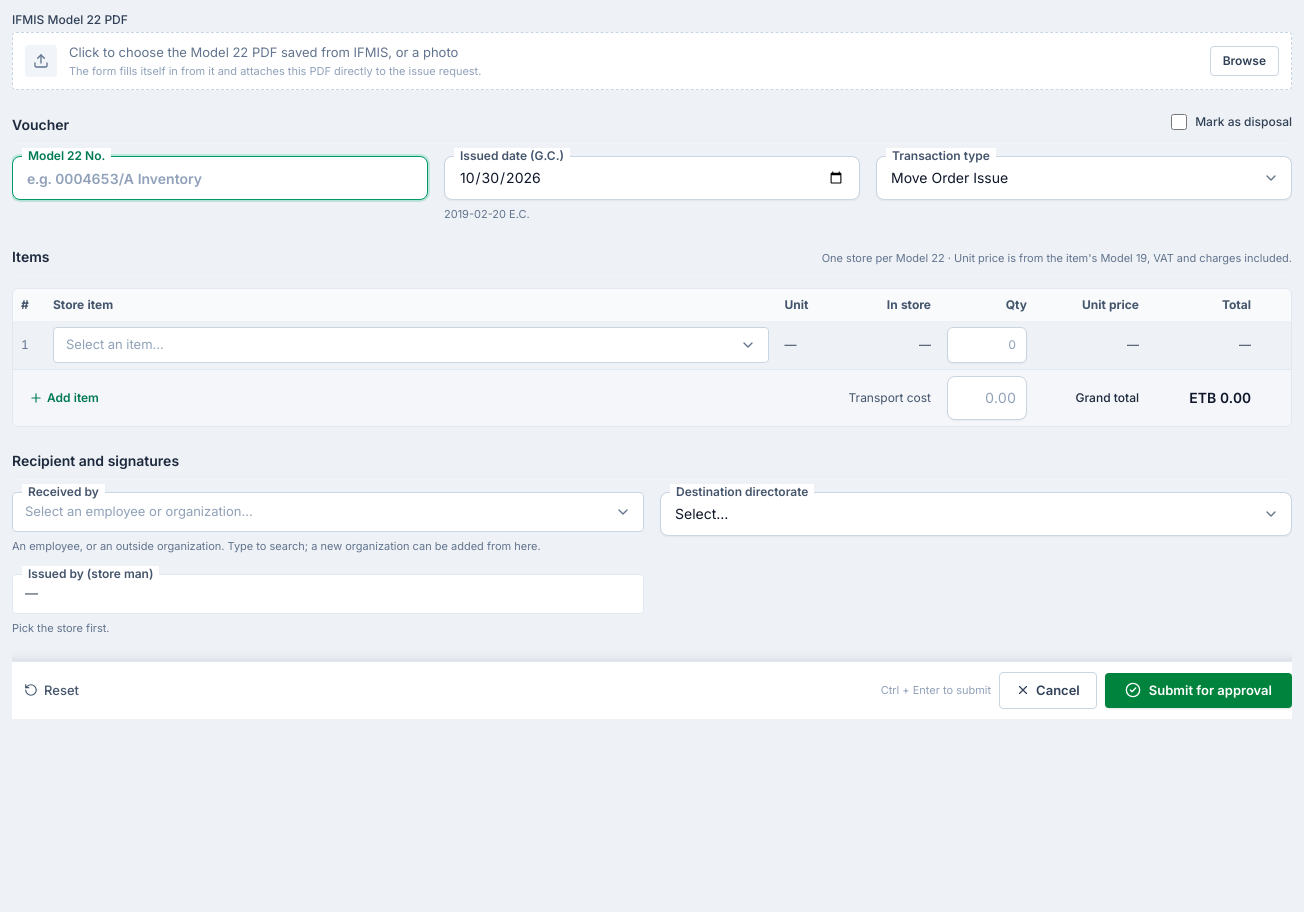
Test: Issue items (Model 22): read from the IFMIS PDF › shows which receipt each store record came from when choosing by hand
Step 1. Click the dropdown named "Store item" → click(115, 344), box [53,326,768,362]
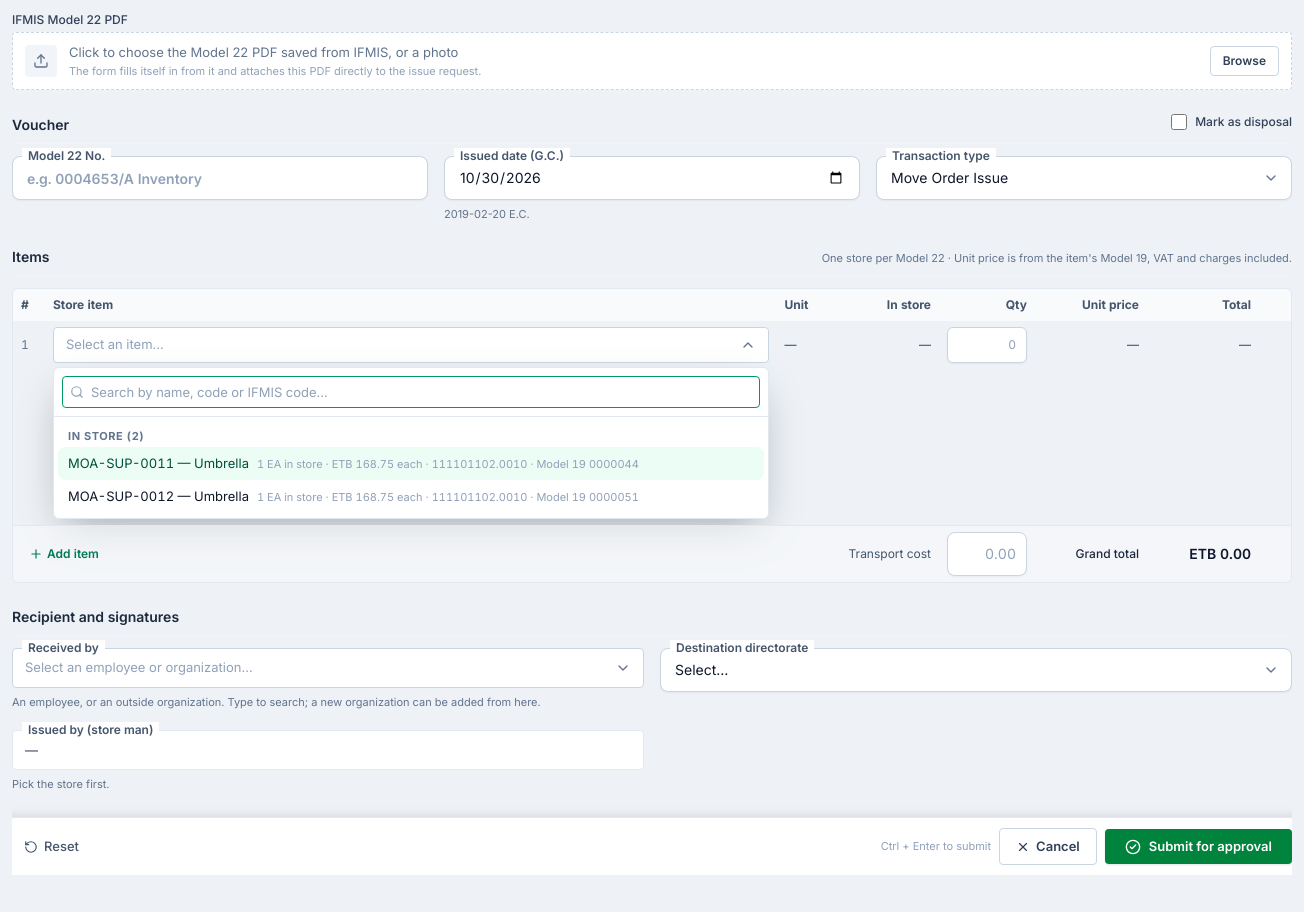
Result: the text "Model 19 0000044" is shown at [257,457,639,471]
Result: the text "Model 19 0000051" is shown at [257,490,639,504]
